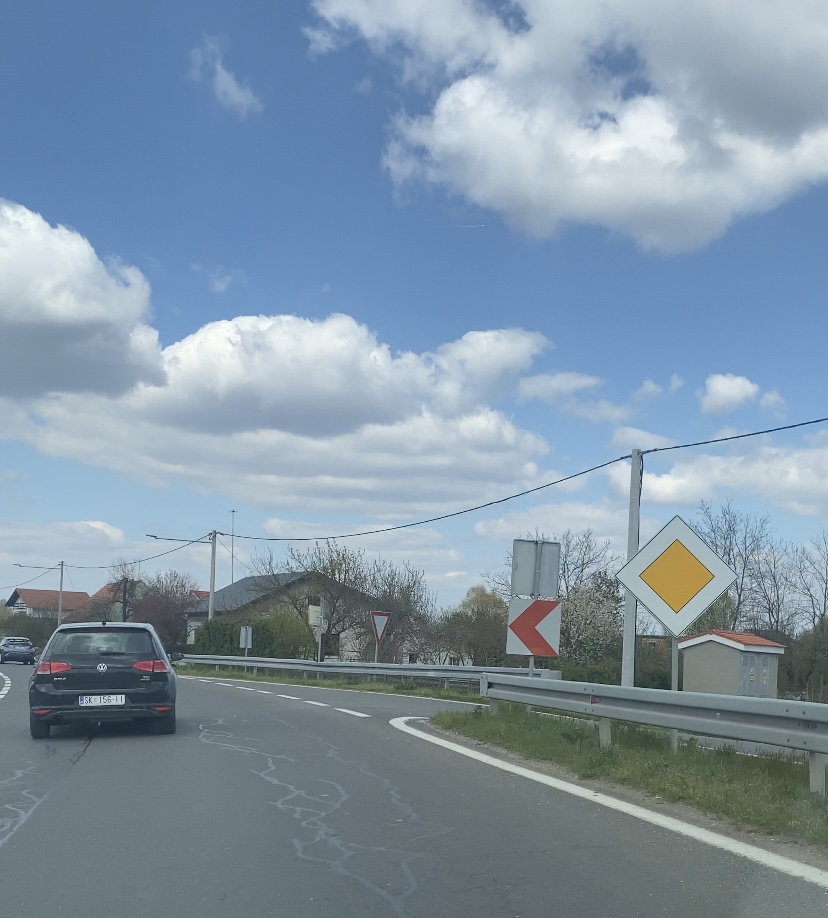Cesta s prednošću prolaska: (615, 515, 740, 640)
